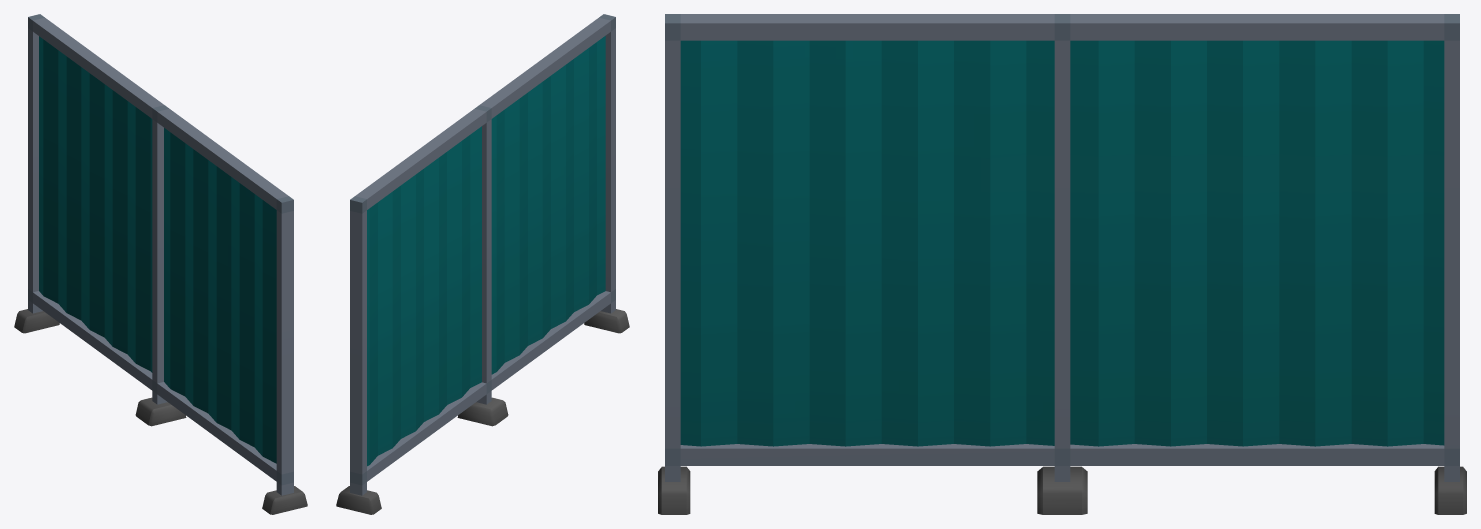
File: Barier_1_5.fbx
3 renders of one model, left to right at view 1: azimuth 30°, elevation 25°; view 2: azimuth 150°, elevation 25°; view 3: azimuth 270°, elevation 25°, orthographic. The views are drawn at different scales.
Parts seen in each view (by area): view 1: Barier_1_5; view 2: Barier_1_5; view 3: Barier_1_5.
Boxes of the visible parts, x1,y1,x2,y2 form: Barier_1_5: [14, 14, 307, 514]; Barier_1_5: [336, 14, 629, 514]; Barier_1_5: [658, 14, 1466, 514].
Bounding box in the file's own units: 34.35 × 268 × 407.
